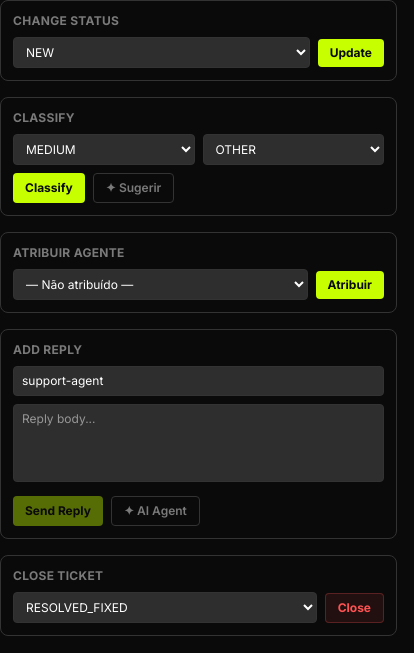
Test: ActionButtons — AI Agent reply › fills textarea with AI-generated suggestion on click
The image size is (414, 653).
Click the button titled "gerar sugestão". click: (155, 511)
box: [111,496,200,526]
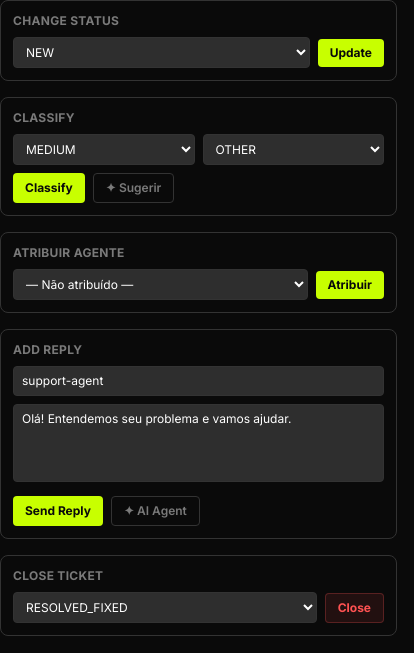
Now the text box with placeholder "Reply body..." holds "Olá! Entendemos seu problema e vamos ajudar.", box [13,404,384,482]
